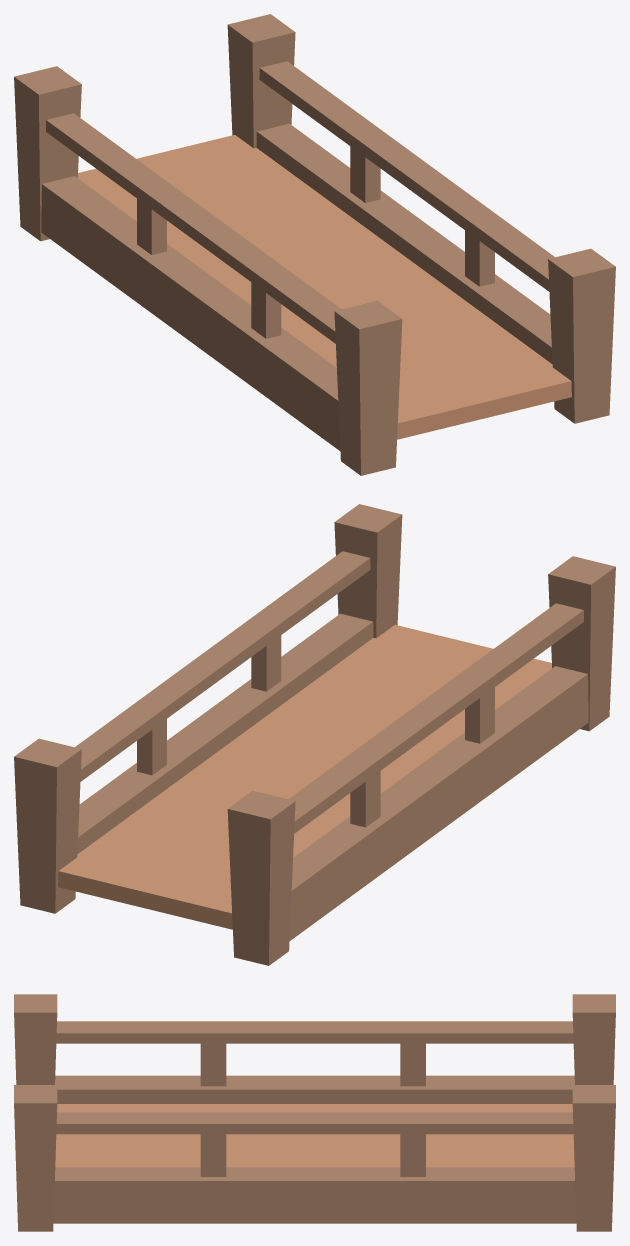
File: bridge_3a_1.fbx
3 views of the same model, one above another, from view 1: azimuth 30°, elevation 25°; view 2: azimuth 150°, elevation 25°; view 3: azimuth 270°, elevation 25° (orthographic). The views are drawn at different scales.
Parts seen in each view (by area): view 1: bridge_3a_1; view 2: bridge_3a_1; view 3: bridge_3a_1.
Part boxes in pixels (x1,y1,x2,y2): bridge_3a_1: [14, 14, 615, 475]; bridge_3a_1: [14, 504, 615, 965]; bridge_3a_1: [14, 994, 615, 1231].
Bounding box in the file's own units: 9.02 × 5.01 × 21.01.
